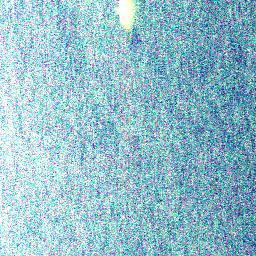Ship: (115, 0, 140, 30)
